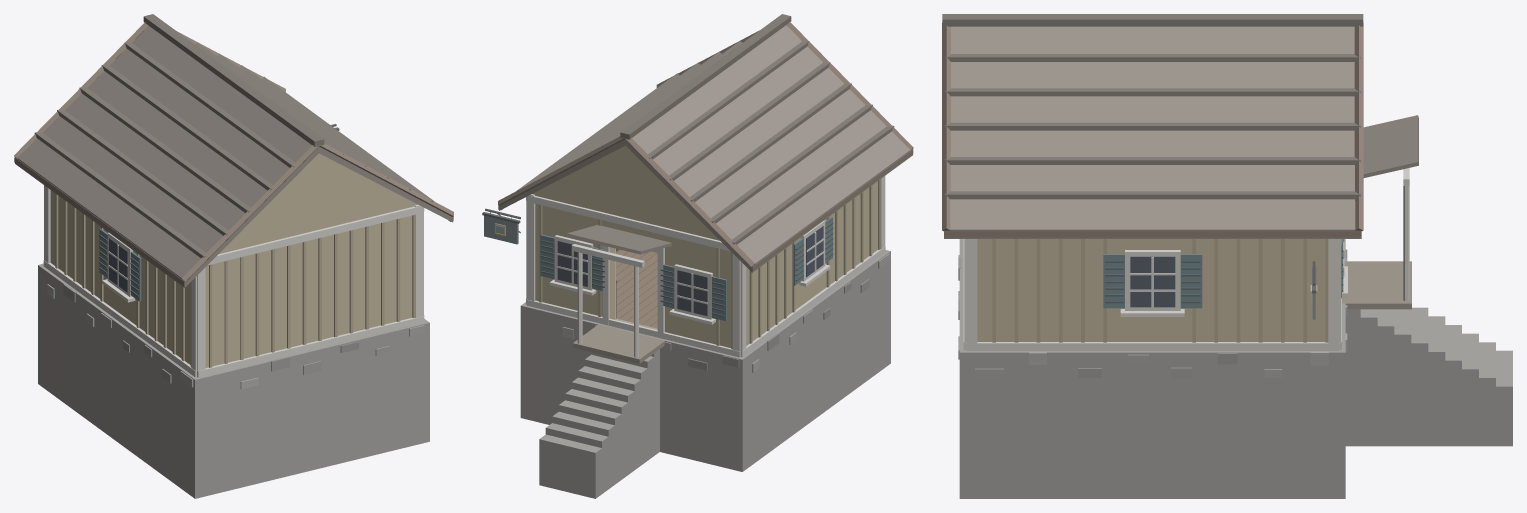
The model's file is gallery_1.gltf.
3 renders of one model, left to right at view 1: azimuth 30°, elevation 25°; view 2: azimuth 150°, elevation 25°; view 3: azimuth 270°, elevation 25°, orthographic. The views are drawn at different scales.
Visible parts, largest first — view 1: Body; view 2: Body; view 3: Body.
Part boxes in pixels (x1=…): Body: x1=14, y1=14, x2=453, y2=498; Body: x1=482, y1=14, x2=913, y2=498; Body: x1=942, y1=14, x2=1512, y2=498.
Bounding box in the file's own units: 8.22 × 8.59 × 10.8.
